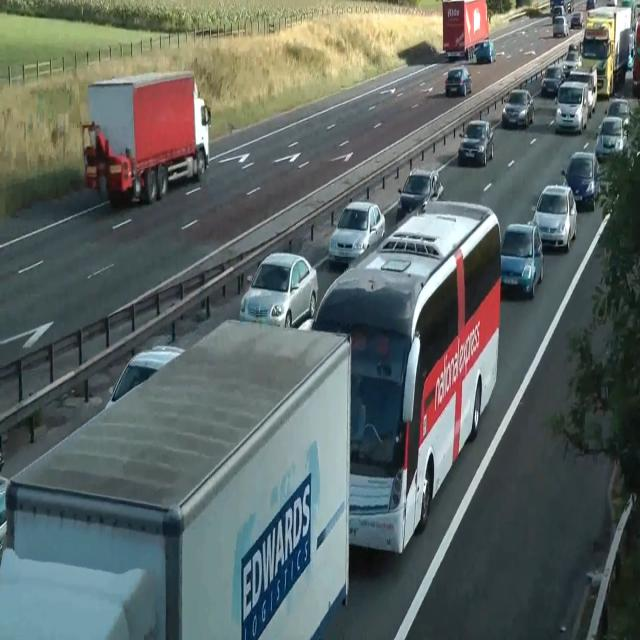bus: (239, 251, 319, 329), (106, 344, 186, 409), (328, 200, 386, 267), (500, 222, 544, 299), (531, 183, 577, 251), (561, 151, 600, 211), (397, 167, 443, 214), (458, 119, 494, 166), (502, 89, 534, 128), (605, 98, 631, 136), (444, 66, 472, 97), (0, 473, 10, 555), (541, 63, 565, 96), (472, 40, 496, 63), (562, 49, 582, 76), (586, 568, 604, 588), (552, 15, 568, 37), (627, 31, 635, 69), (570, 10, 584, 28), (552, 4, 566, 18), (565, 0, 573, 13), (586, 0, 595, 11)
car: (308, 198, 502, 555)
jeep: (555, 80, 589, 133), (595, 115, 627, 162), (567, 65, 597, 115)
minibus: (0, 317, 352, 639), (81, 70, 211, 207), (580, 4, 632, 98), (442, 0, 492, 62)
